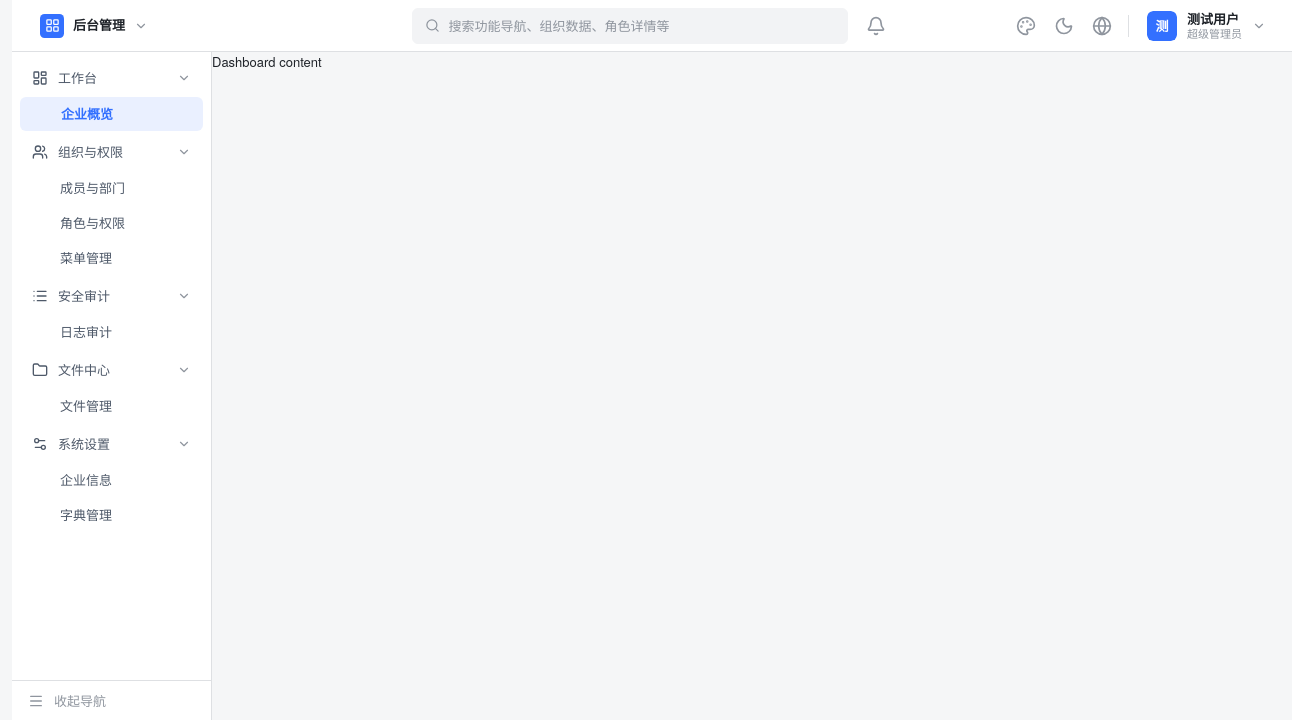
Test: Shell 层在菜单路由切换时保持同一组 Header、Sidebar 和内容容器节点
Expected: the header is shown, [12,0,1291,52]
Expected: the element that starts with "工作台" is shown, [12,0,212,719]
Click the link "成员与部门": coordinates (92, 187) [60,178,125,197]
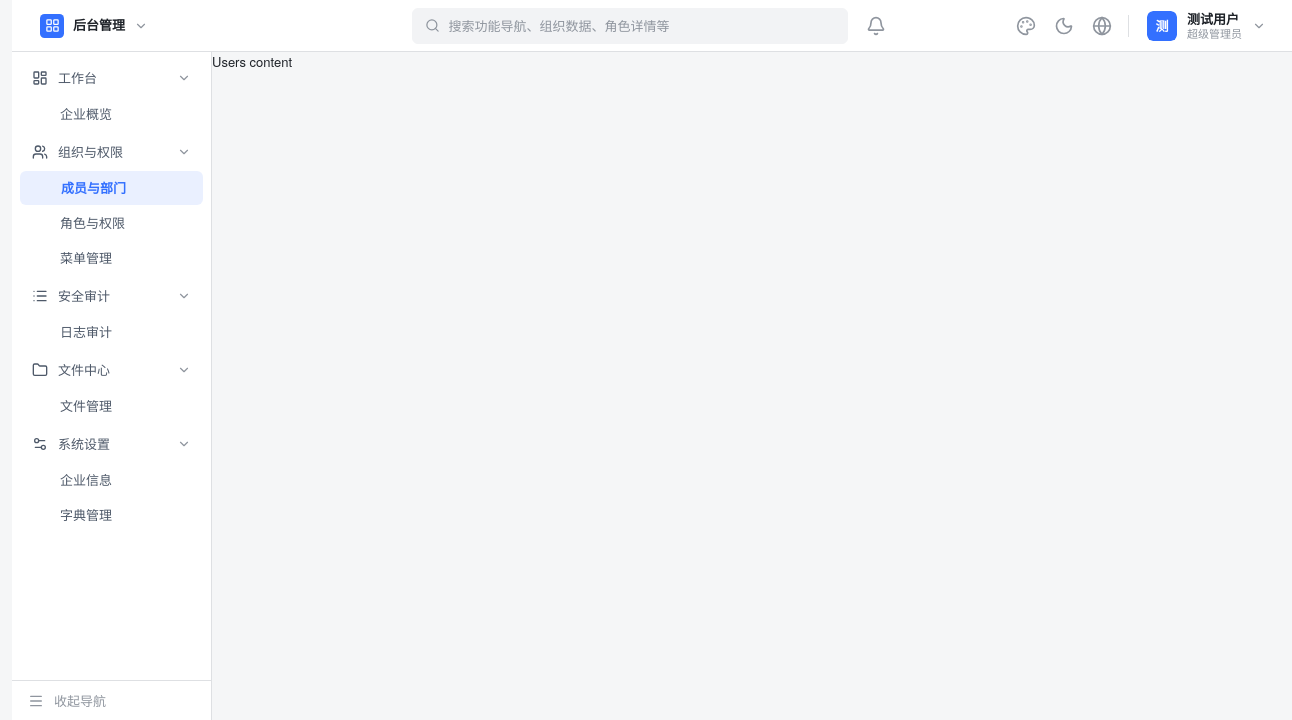
Result: the text "Users content" is shown at [212,52,292,71]
